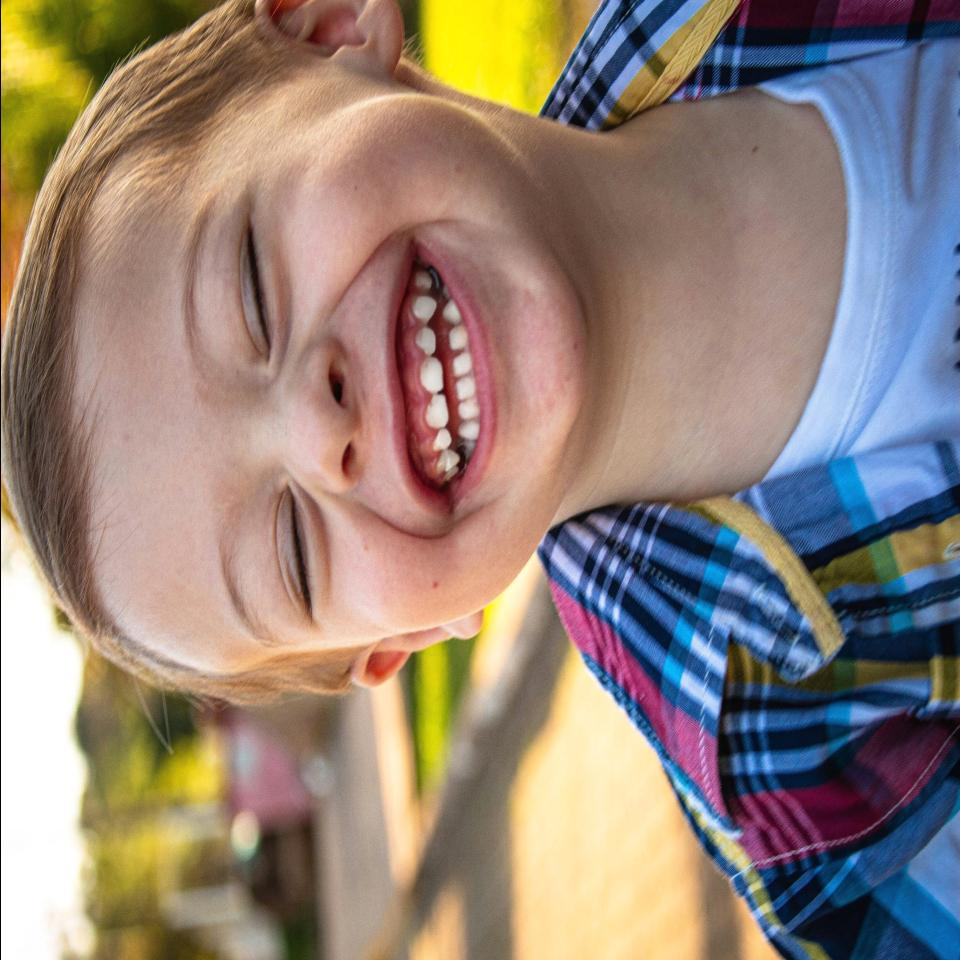Happiness: (84, 138, 562, 652)
